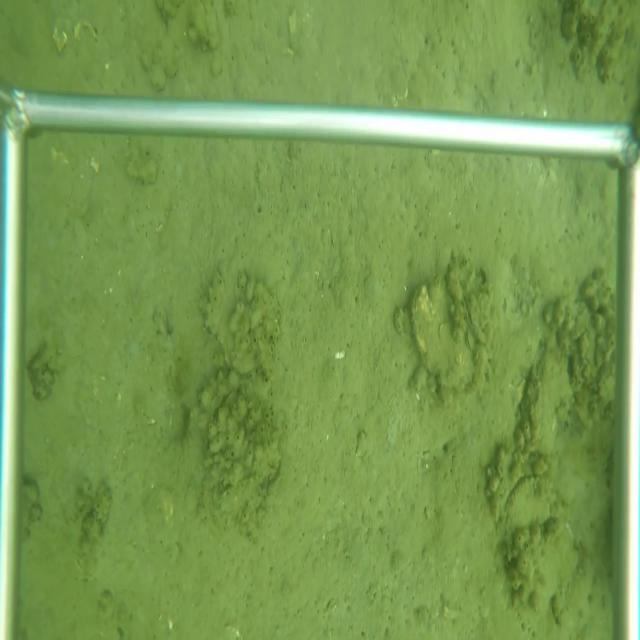Oyster-Closed: (408, 284, 472, 393), (460, 281, 489, 349), (464, 328, 475, 354)
Oyster-Indeterminate: (204, 270, 283, 377), (502, 471, 565, 535)
